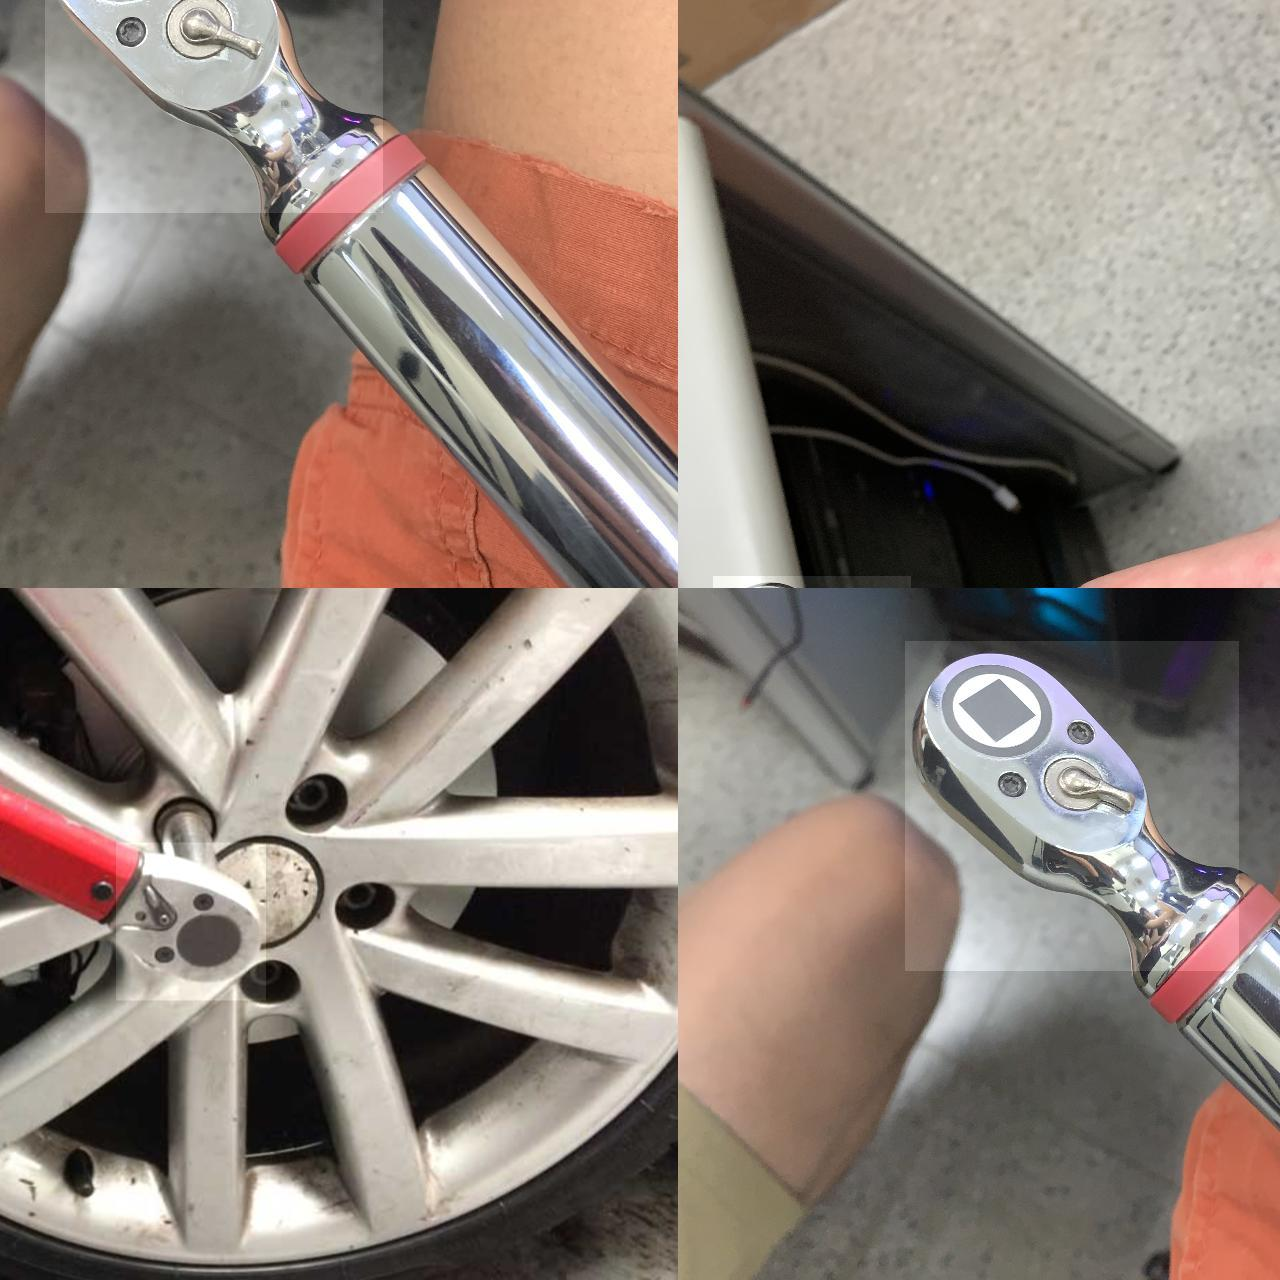Tool: (904, 640, 1238, 971), (45, 0, 382, 212), (115, 842, 265, 1000)
